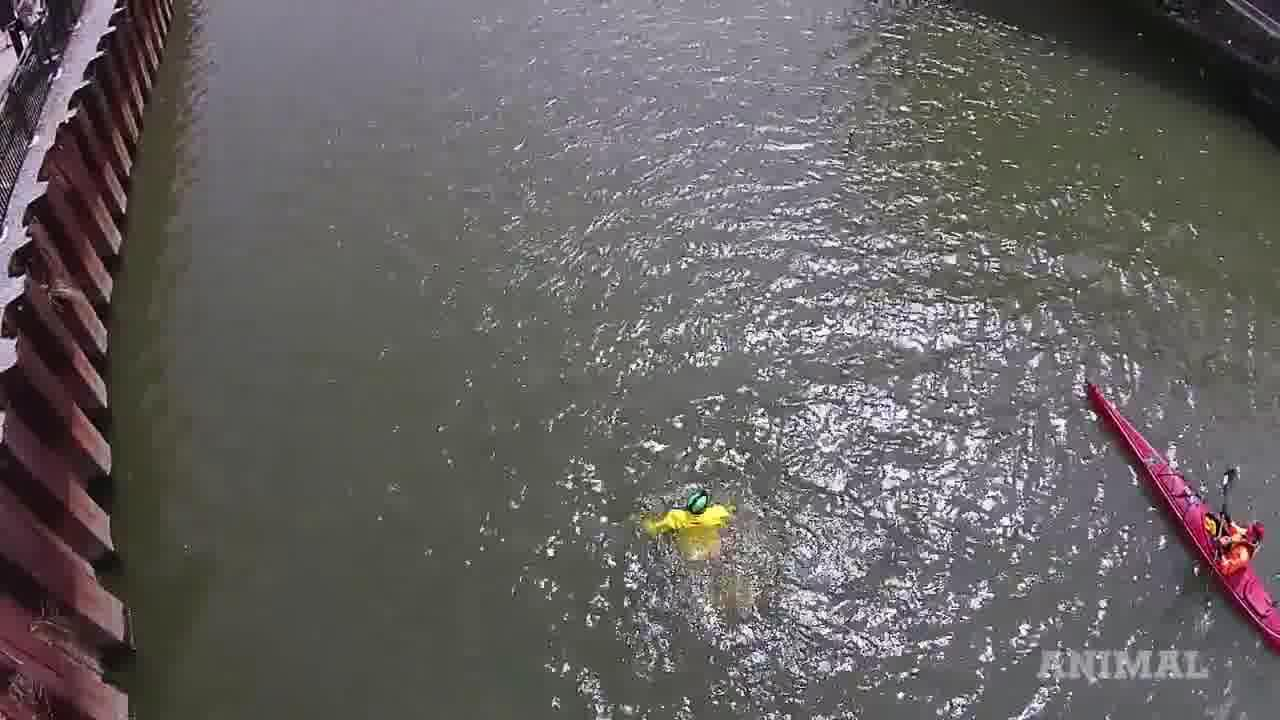human: (656, 459, 741, 557)
